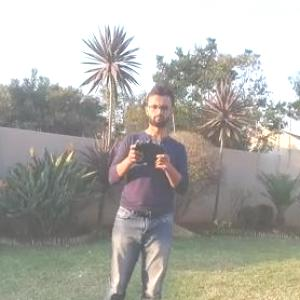follow: (95, 82, 200, 299)
